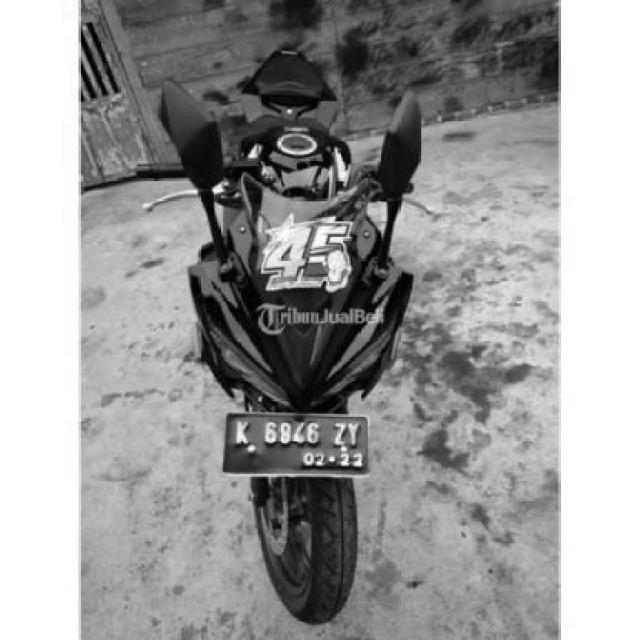4: (296, 419, 306, 448)
6: (306, 419, 323, 448), (266, 417, 278, 448)
9: (280, 415, 292, 453)
K: (231, 416, 256, 452)
Y: (346, 417, 370, 450)
Z: (332, 418, 348, 444)
